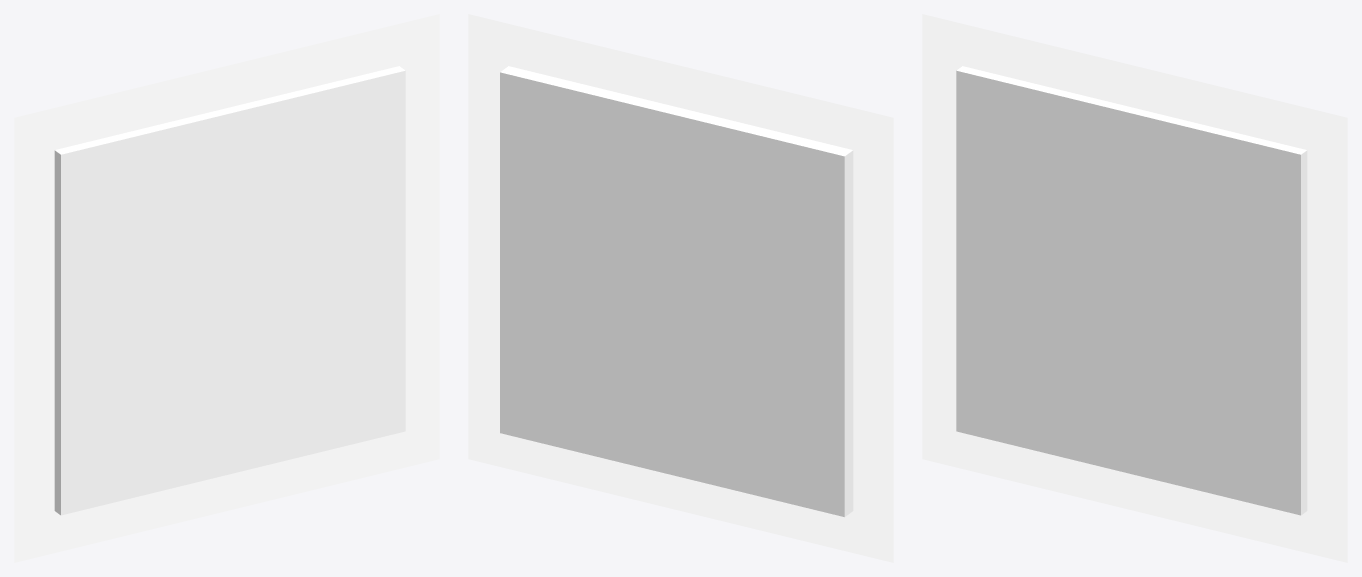
The model's file is cadreVIP.glb.
The picture shows the model from 3 angles, left to right: view 1: azimuth 30°, elevation 25°; view 2: azimuth 150°, elevation 25°; view 3: azimuth 330°, elevation 25°; orthographic projection.
Parts seen in each view (by area): view 1: Cube.046, Cube.047; view 2: Cube.046, Cube.047; view 3: Cube.046, Cube.047.
Boxes of the visible parts, bbox=[...] form: Cube.046: bbox=[54, 66, 405, 515]; Cube.047: bbox=[14, 14, 439, 562]; Cube.046: bbox=[500, 66, 853, 517]; Cube.047: bbox=[468, 14, 893, 562]; Cube.046: bbox=[956, 66, 1307, 515]; Cube.047: bbox=[922, 14, 1347, 562].
Bounding box in the file's own units: 4.94 × 4.94 × 0.3.
Materials: 2 (1 with a texture image).
